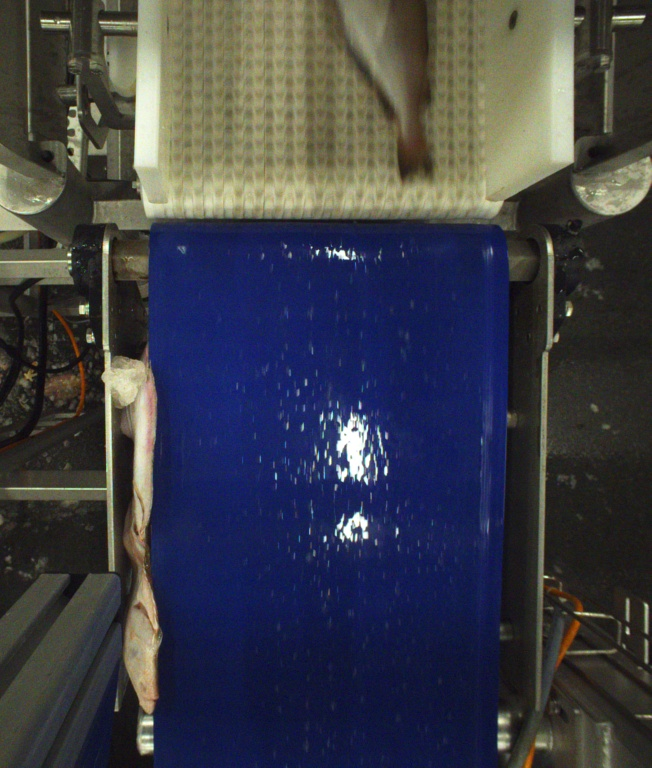BIB: (337, 0, 438, 180)
